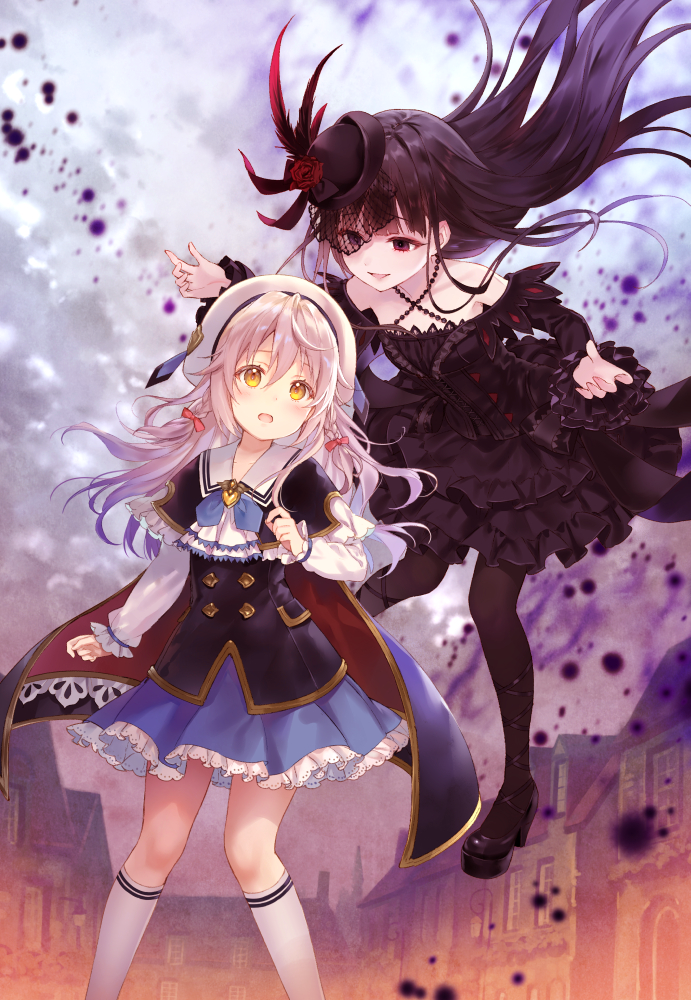纸片人正脸: (306, 101, 475, 309), (189, 273, 352, 451)
